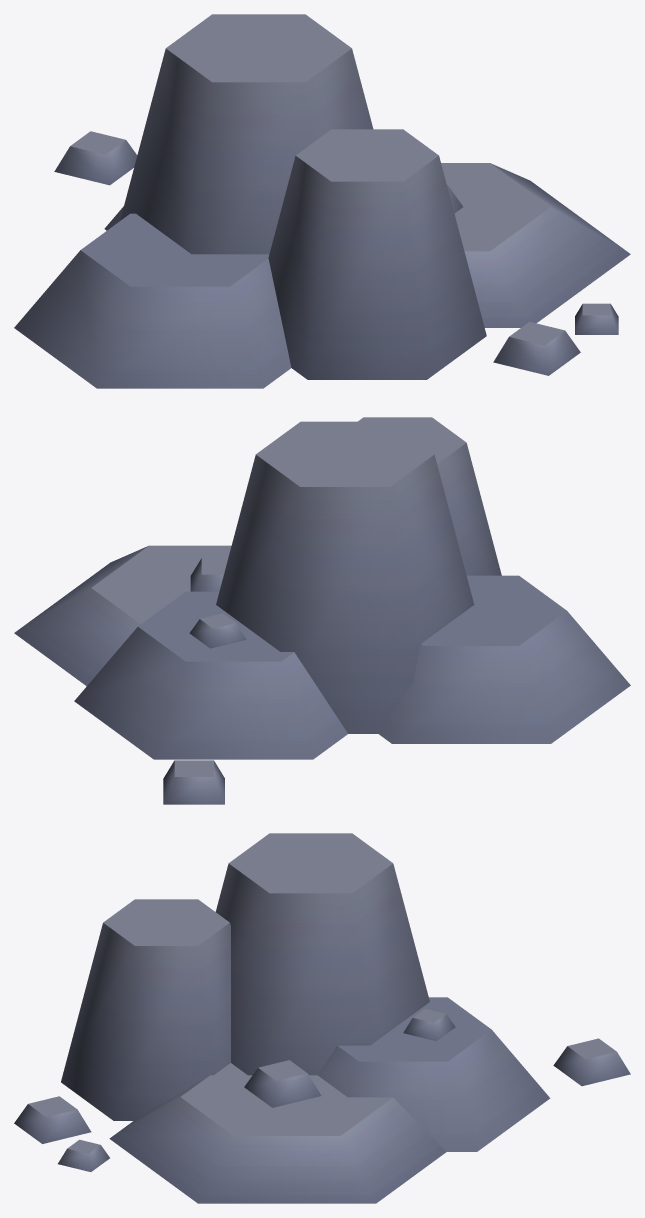
Rendered from rocks-large.glb.
The picture shows the model from 3 angles, top to bottom: view 1: azimuth 30°, elevation 25°; view 2: azimuth 150°, elevation 25°; view 3: azimuth 270°, elevation 25°; orthographic projection. The views are drawn at different scales.
Visible parts, largest first — view 1: rocks-large; view 2: rocks-large; view 3: rocks-large.
Boxes of the visible parts, box(x1,y1,x2,y2) form: rocks-large: box(14, 14, 630, 388); rocks-large: box(14, 417, 630, 804); rocks-large: box(14, 833, 630, 1203).
Bounding box in the file's own units: 1.2 × 0.5 × 1.35.
Materials: 1 (1 with a texture image).
